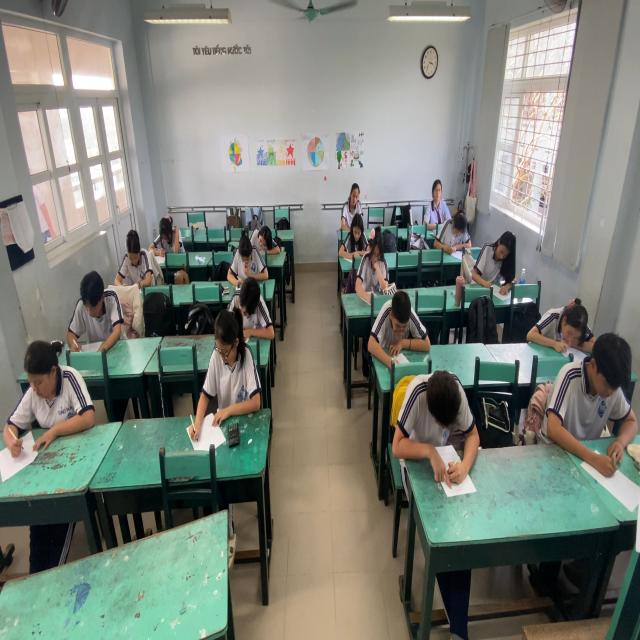not_cheating: (572, 317, 632, 468), (14, 338, 90, 438), (404, 364, 468, 480), (208, 307, 258, 422), (374, 288, 424, 360), (72, 268, 118, 346), (472, 214, 514, 286), (541, 292, 591, 352), (358, 223, 389, 296), (231, 277, 267, 335), (421, 166, 450, 229), (229, 231, 267, 278), (120, 228, 148, 290), (440, 199, 469, 257), (151, 209, 182, 252), (245, 217, 277, 254), (341, 178, 365, 223), (343, 211, 360, 252)
